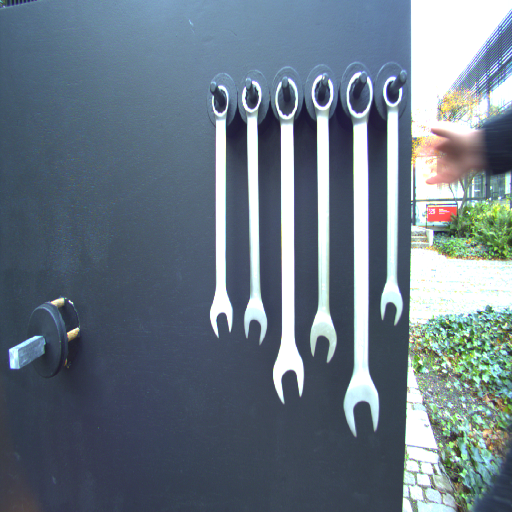bottom: (342, 374, 382, 439), (273, 347, 305, 406), (308, 308, 338, 365), (207, 289, 237, 341), (241, 297, 269, 347), (379, 281, 404, 329)
top: (344, 71, 376, 123), (273, 75, 301, 124), (310, 72, 334, 117), (380, 73, 407, 113), (240, 78, 265, 117), (209, 80, 232, 120)
